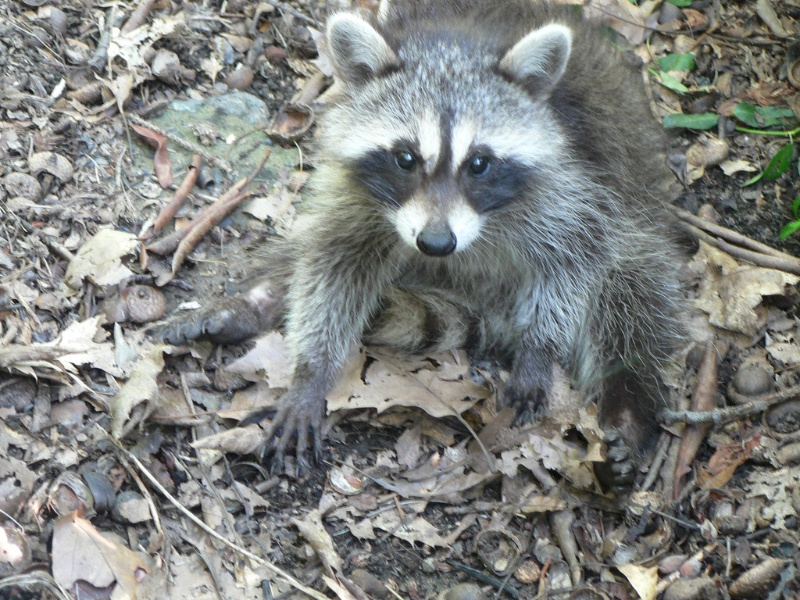raccoon: (253, 1, 682, 483)
